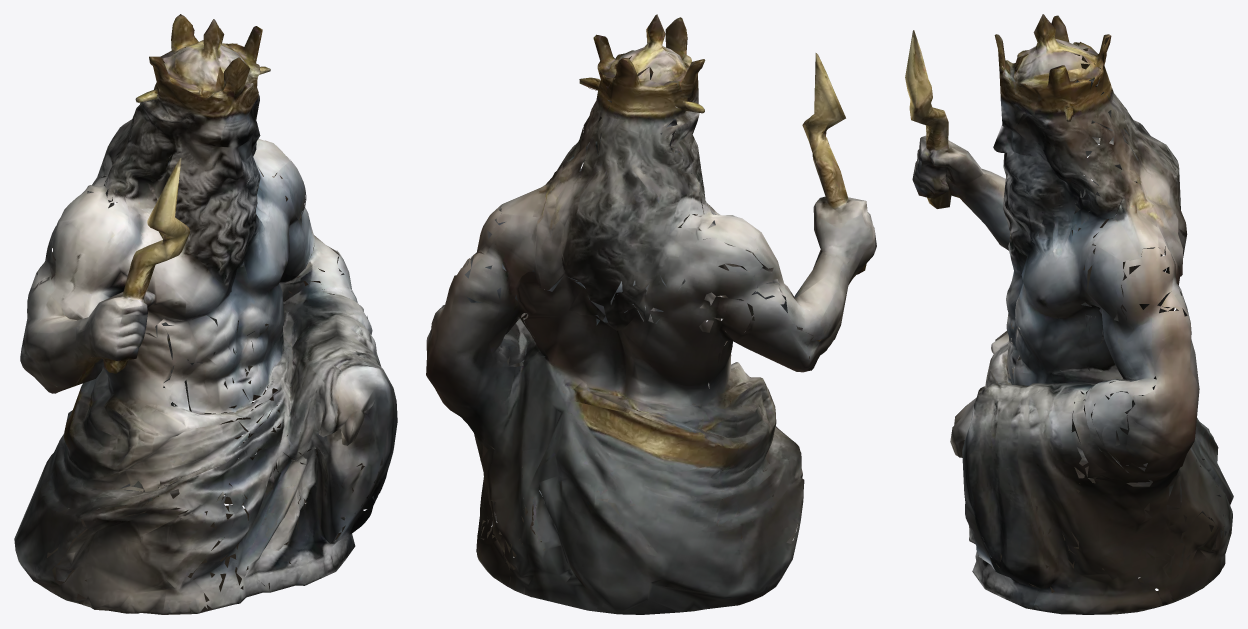
Rendered from zeus_statue.glb.
3 renders of one model, left to right at view 1: azimuth 30°, elevation 25°; view 2: azimuth 150°, elevation 25°; view 3: azimuth 270°, elevation 25°, orthographic. The views are drawn at different scales.
Parts seen in each view (by area): view 1: Mesh1_Mesh1.048; view 2: Mesh1_Mesh1.048; view 3: Mesh1_Mesh1.048.
Part boxes in pixels (left/top/right/bottom): Mesh1_Mesh1.048: left=14, top=14, right=397, bottom=614; Mesh1_Mesh1.048: left=426, top=14, right=876, bottom=614; Mesh1_Mesh1.048: left=905, top=14, right=1233, bottom=614.
Bounding box in the file's own units: 1.38 × 2 × 1.12.
Materials: 1 (1 with a texture image).
